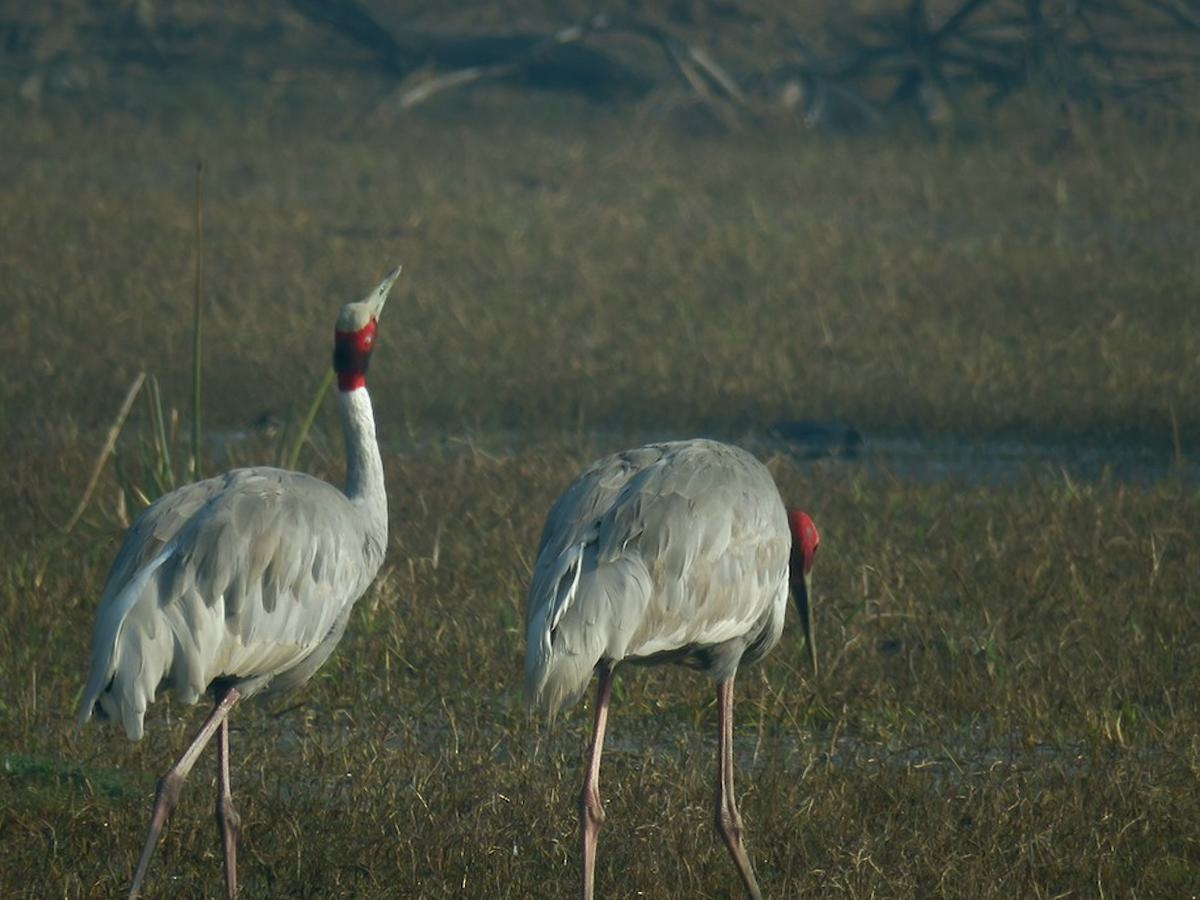crane: (96, 246, 428, 900), (515, 413, 854, 900)
